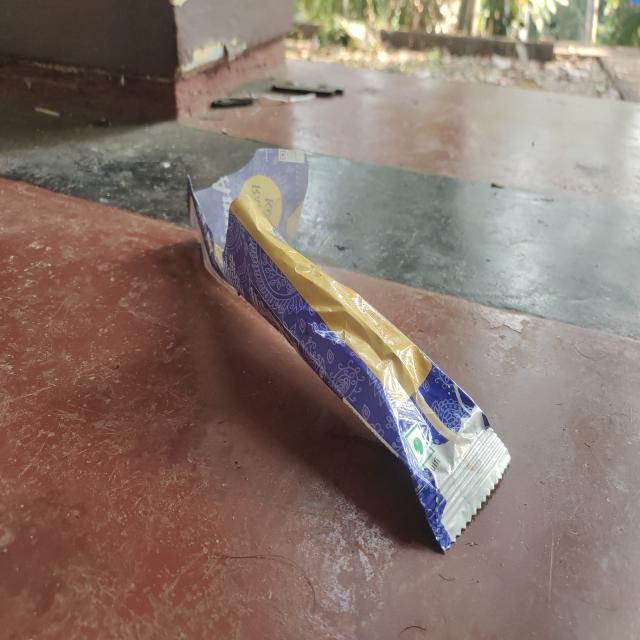plastic: (184, 145, 512, 554)
